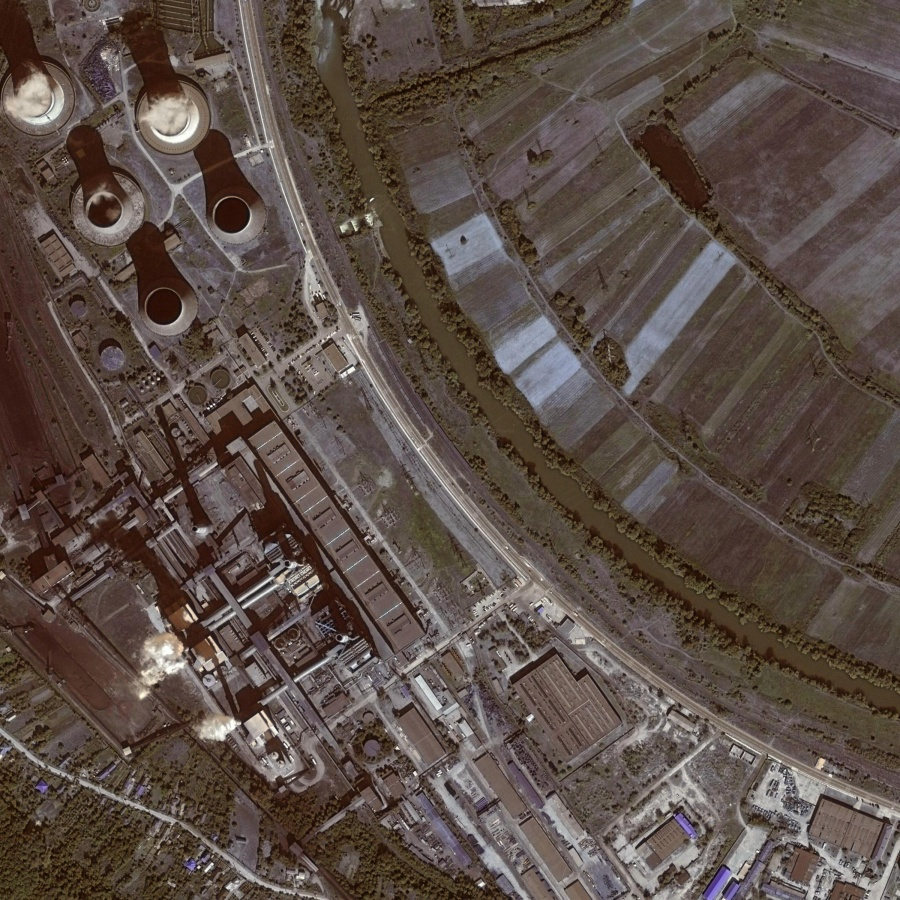PowerPlant: (24, 541, 239, 770)
